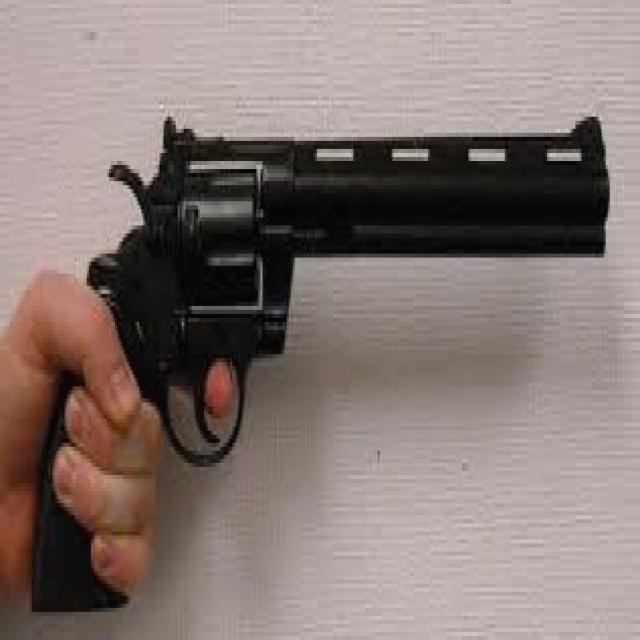pistol: (26, 101, 620, 604)
